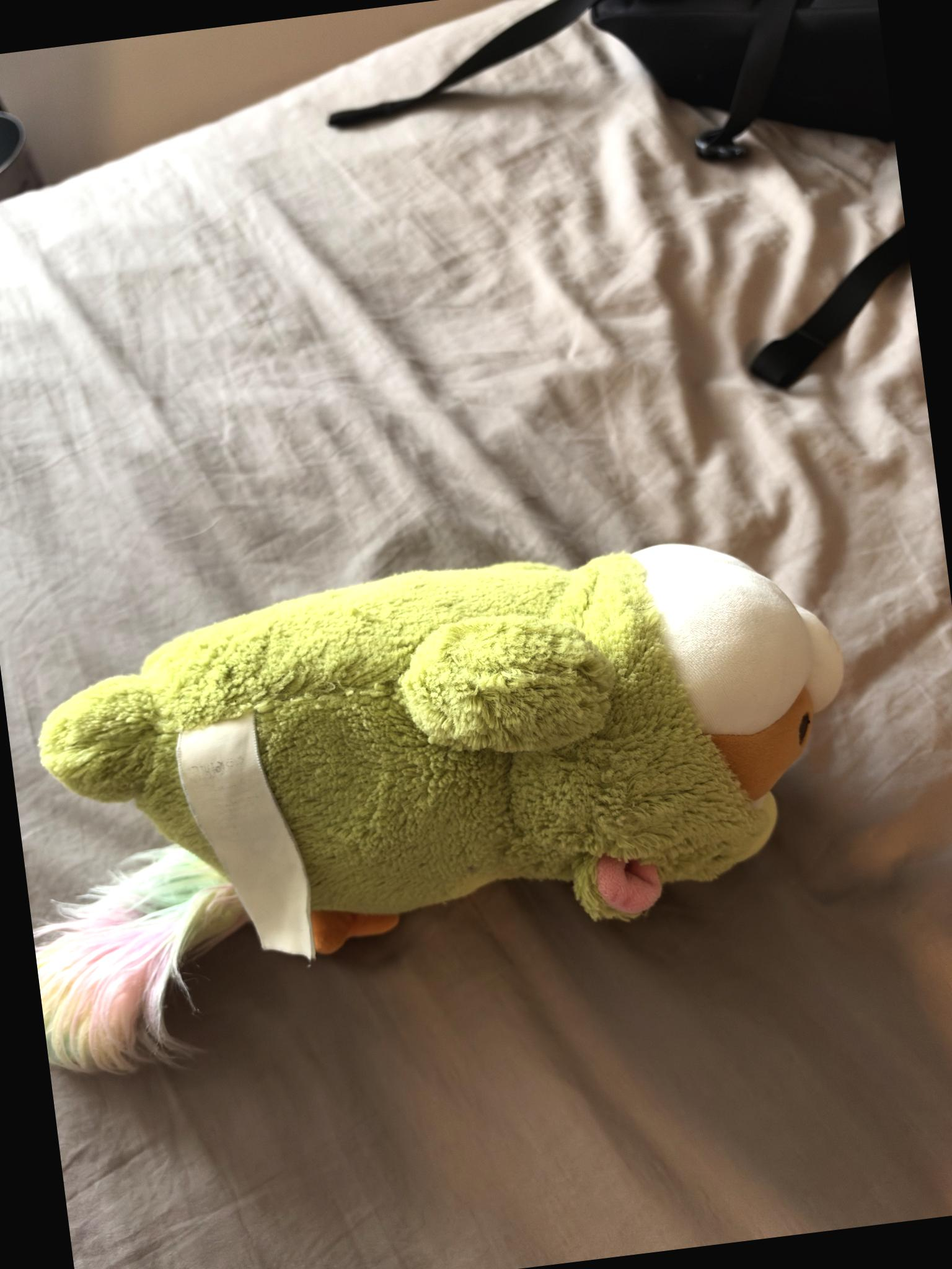peluche_martin: (6, 519, 883, 1078)
